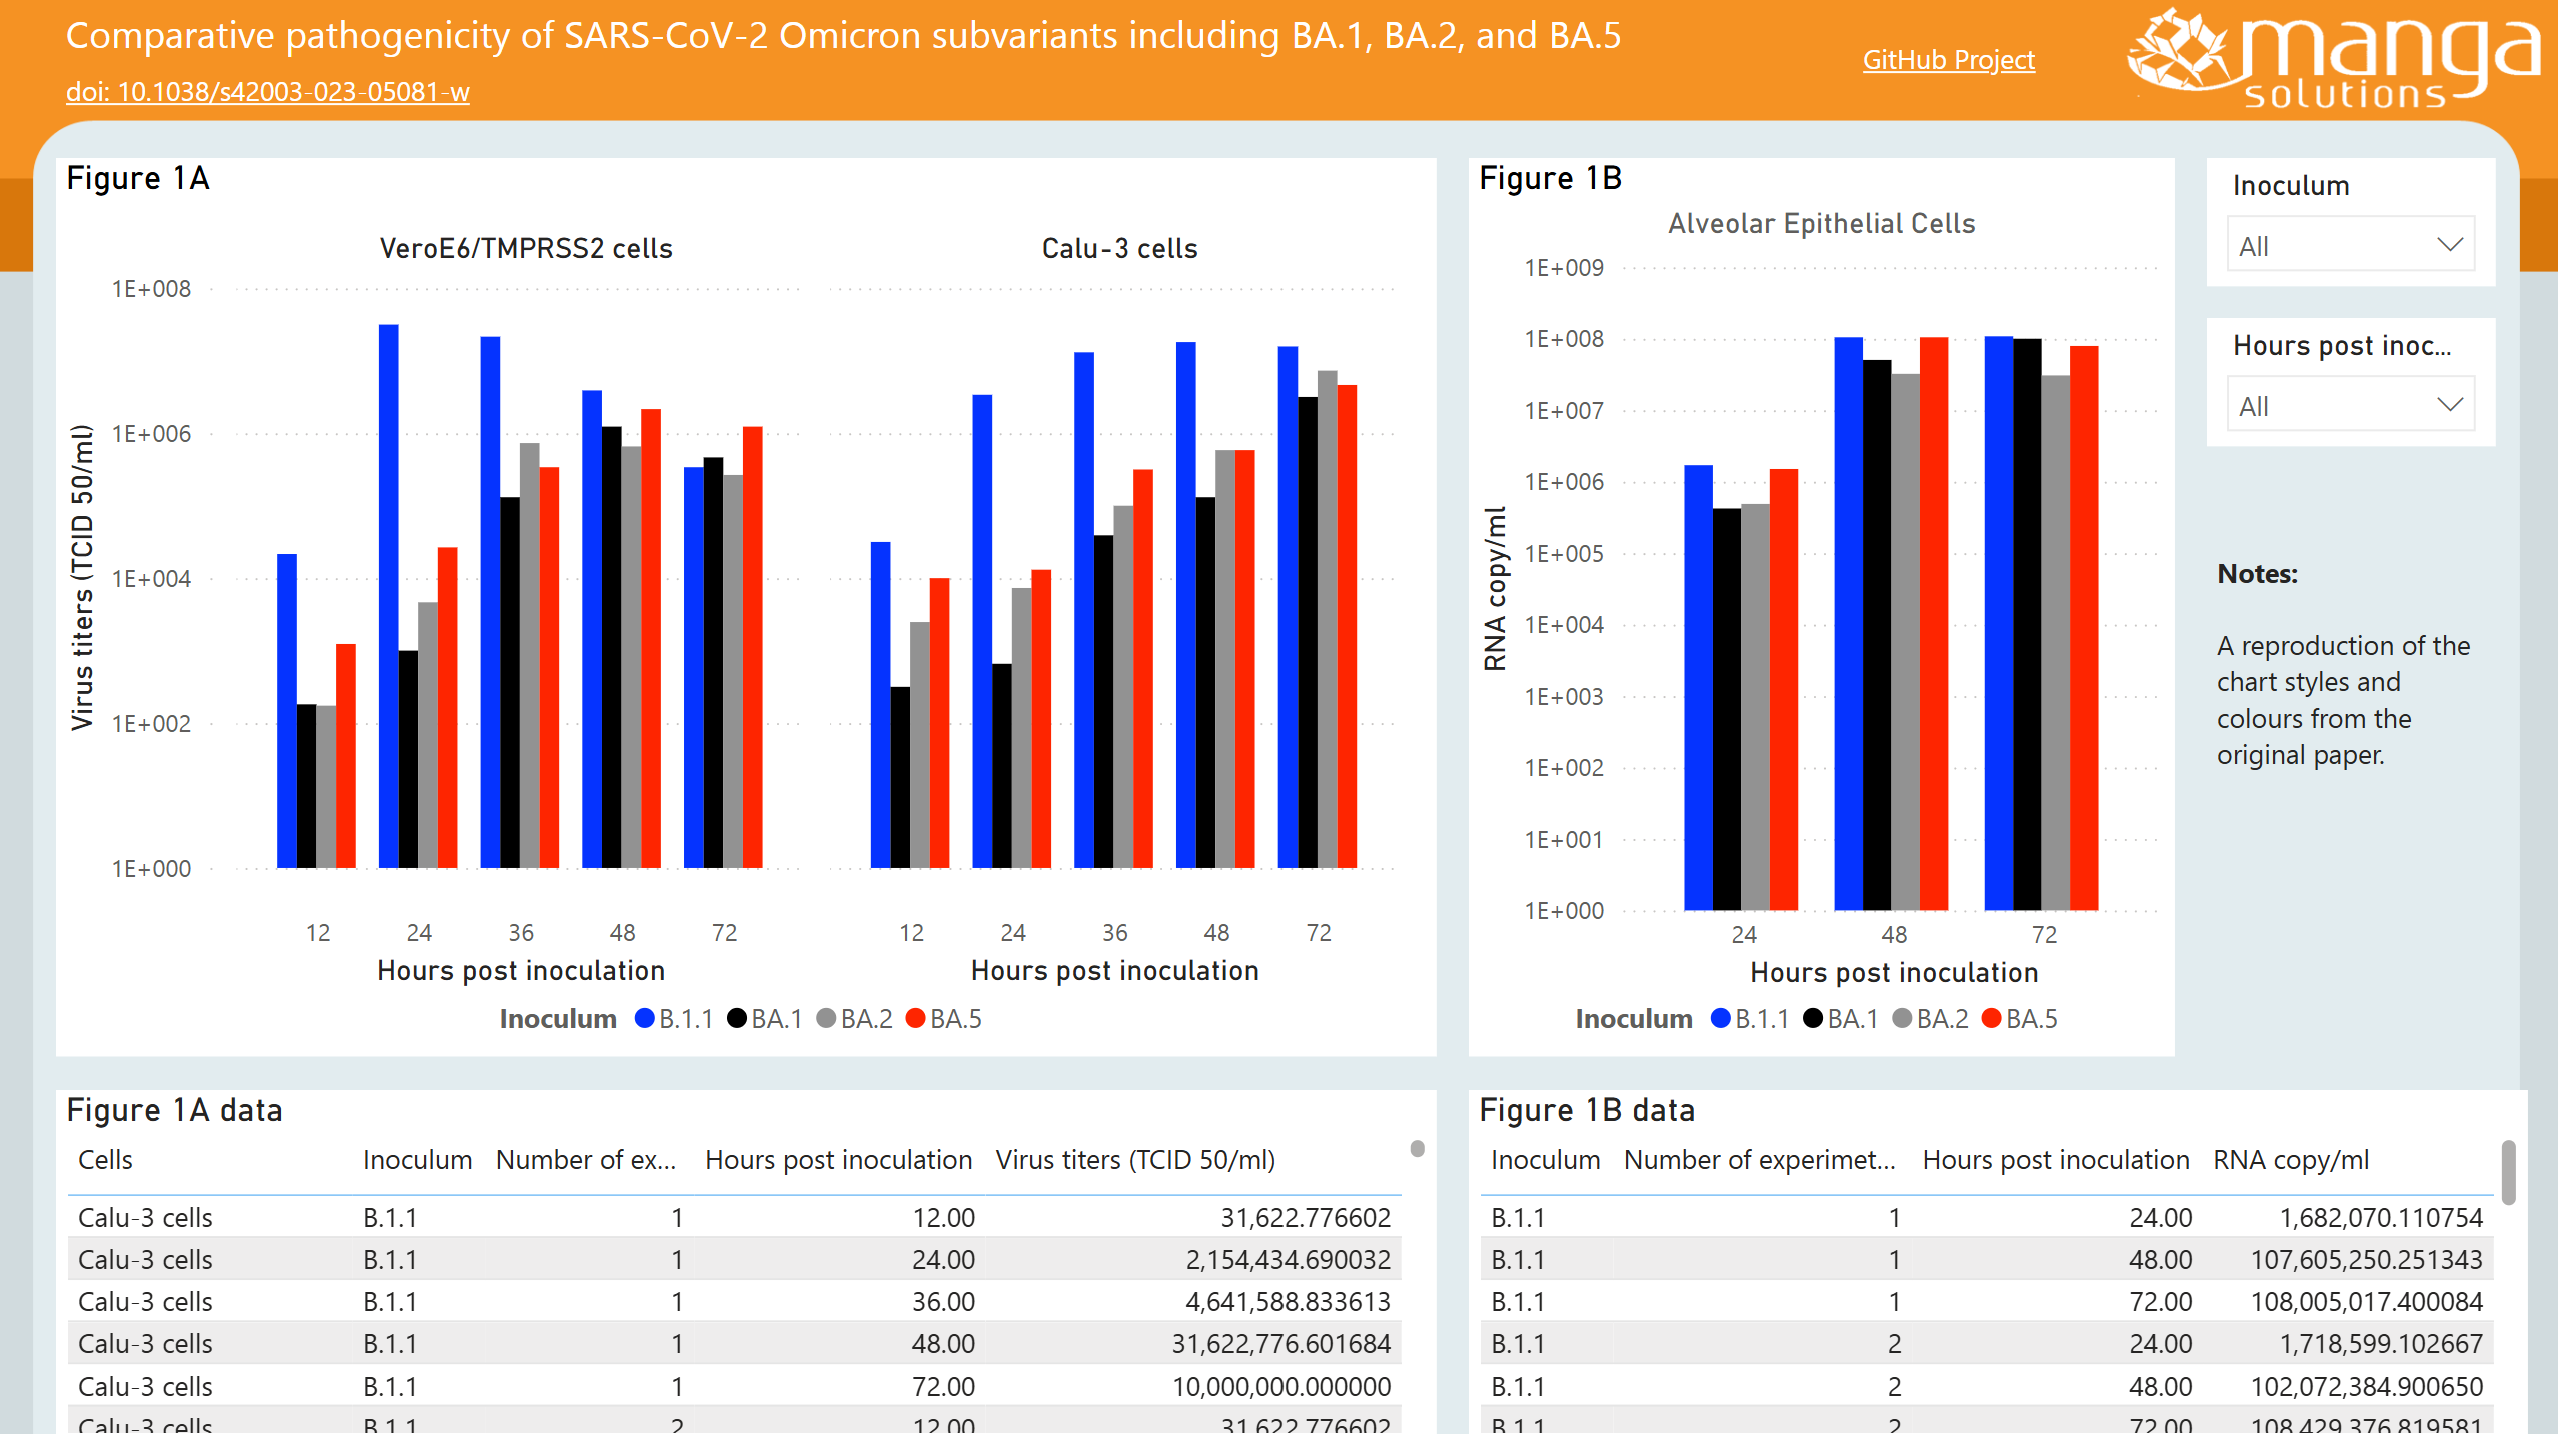

The page's visual inventory and layout, read from the dashboard file:
{"tool":"powerbi","page":{"name":"Repro","canvas":[1280,720],"ordinal":0},"visuals":[{"type":"slicer","fields":{"Values":["Inoculums.Inoculum"]},"box":[1104,80,144,64],"z":0},{"type":"tableEx","title":"Figure 1A data","fields":{"Values":["Figure 1A.Cells","Figure 1A.Inoculum","Figure 1A.Number of experimetal data","Figure 1A.Hours post inoculation","Figure 1A.# Virus titers (TCID 50/ml) - 6 dec"]},"box":[32,544,688,176],"z":1000},{"type":"clusteredColumnChart","title":"Figure 1A","fields":{"Series":["Inoculums.Inoculum"],"Category":["Hours.Hours post inoculation"],"Y":["Figure 1A.# Virus titers (TCID 50/ml)"],"Rows":["Figure 1A.Cells"]},"box":[32,80,688,448],"z":2000},{"type":"textbox","box":[32,0,864,48],"z":3000},{"type":"actionButton","box":[1056,0,224,64],"z":4000},{"type":"textbox","box":[896,16,128,32],"z":5000},{"type":"textbox","box":[32,32,304,32],"z":6000},{"type":"clusteredColumnChart","title":"Figure 1B","fields":{"Series":["Inoculums.Inoculum"],"Category":["Hours.Hours post inoculation"],"Y":["Figure 1B.# RNA copy/ml"]},"box":[736,80,352,448],"z":7000},{"type":"tableEx","title":"Figure 1B data","fields":{"Values":["Figure 1B.Inoculum","Figure 1B.Number of experimetal data","Figure 1B.Hours post inoculation","Figure 1B.# RNA copy/ml - 6 dec"]},"box":[736,544,528,176],"z":8000},{"type":"slicer","fields":{"Values":["Hours.Hours post inoculation"]},"box":[1104,160,144,64],"z":9000},{"type":"textbox","box":[1104,272,144,256],"z":9001}]}

Visuals, with their boxes in screenshot pixels (x1, y1, x2, y2), scaled from the page's 1280x720 canvas onto the 2558x1434 screenshot:
slicer - Inoculums.Inoculum: [2206,159,2494,287]
"Figure 1A data" tableEx: [64,1083,1439,1433]
"Figure 1A" clusteredColumnChart: [64,159,1439,1052]
textbox: [64,0,1791,96]
actionButton: [2110,0,2557,127]
textbox: [1791,32,2046,96]
textbox: [64,64,671,127]
"Figure 1B" clusteredColumnChart: [1471,159,2174,1052]
"Figure 1B data" tableEx: [1471,1083,2526,1433]
slicer - Hours.Hours post inoculation: [2206,319,2494,446]
textbox: [2206,542,2494,1052]
